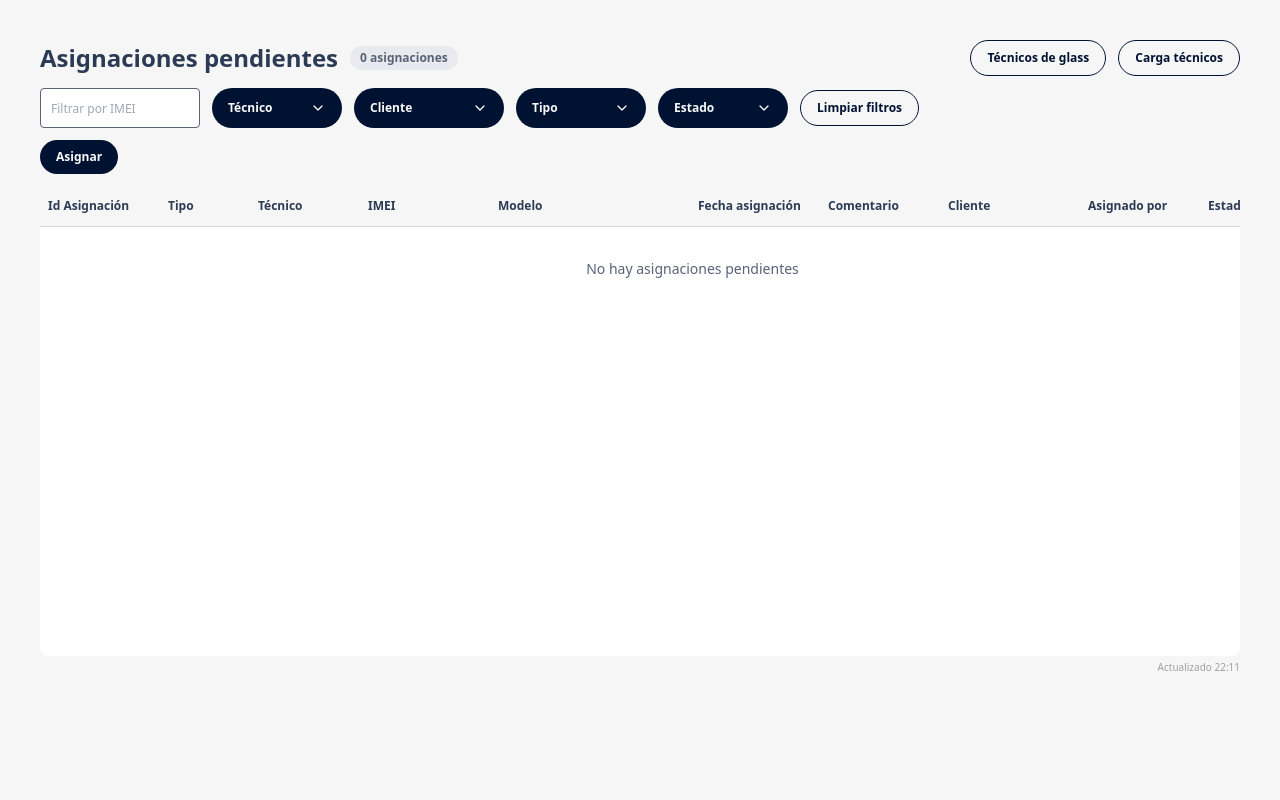
it: TecnicosGlassDialog dentro de la vista › el botón de la cabecera abre el diálogo y aceptar lo cierra
Click the button "Técnicos de glass". click: click(1038, 58)
box: x1=970 y1=40 x2=1106 y2=76
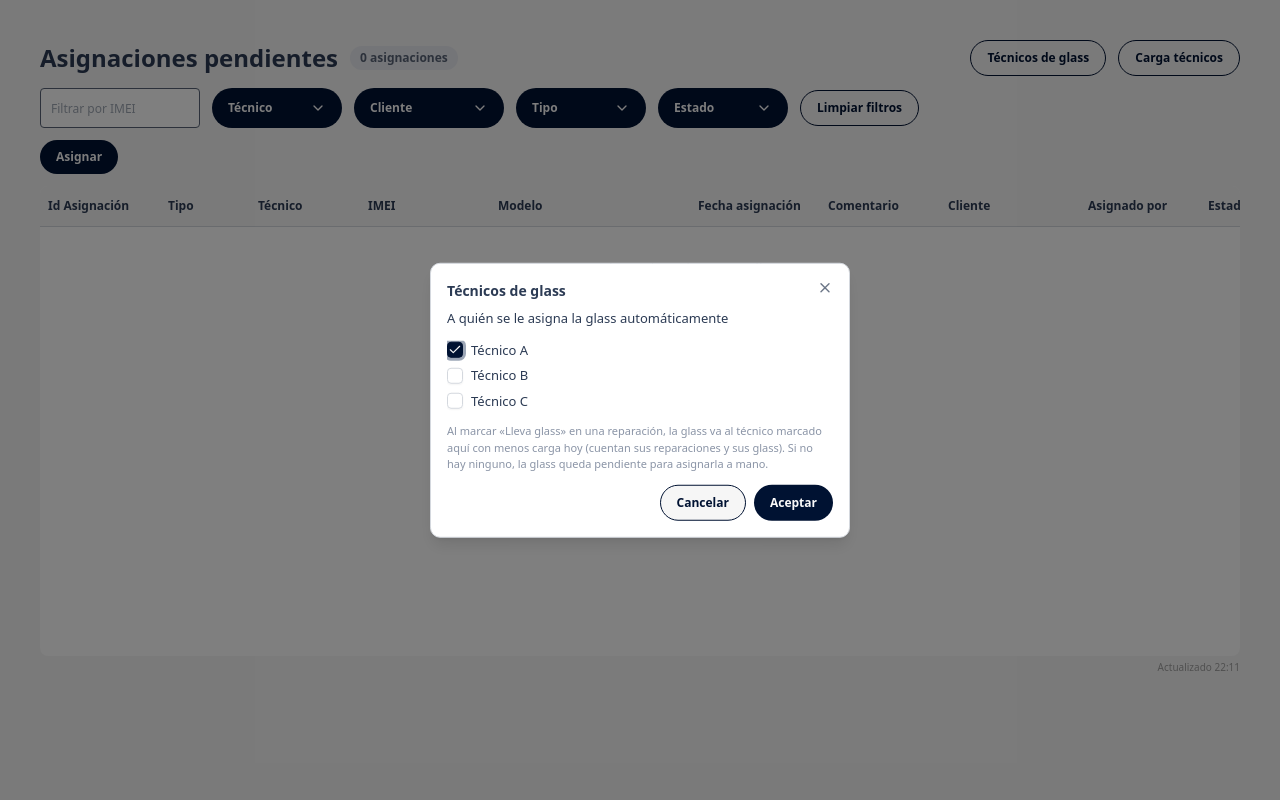
Click the checkbox named "Técnico B". click: click(455, 376)
box: x1=447 y1=368 x2=463 y2=384
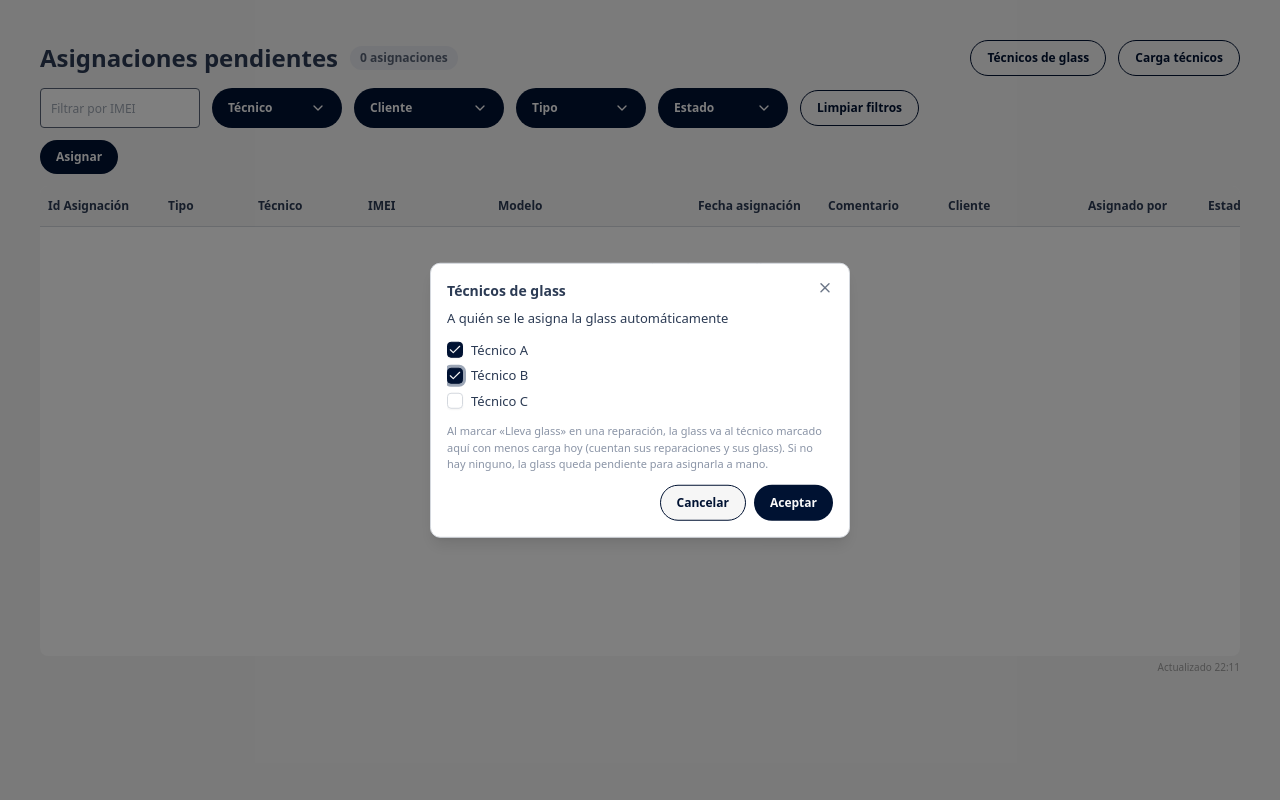
Click the button "Aceptar". click: click(794, 502)
box: x1=754 y1=484 x2=833 y2=520
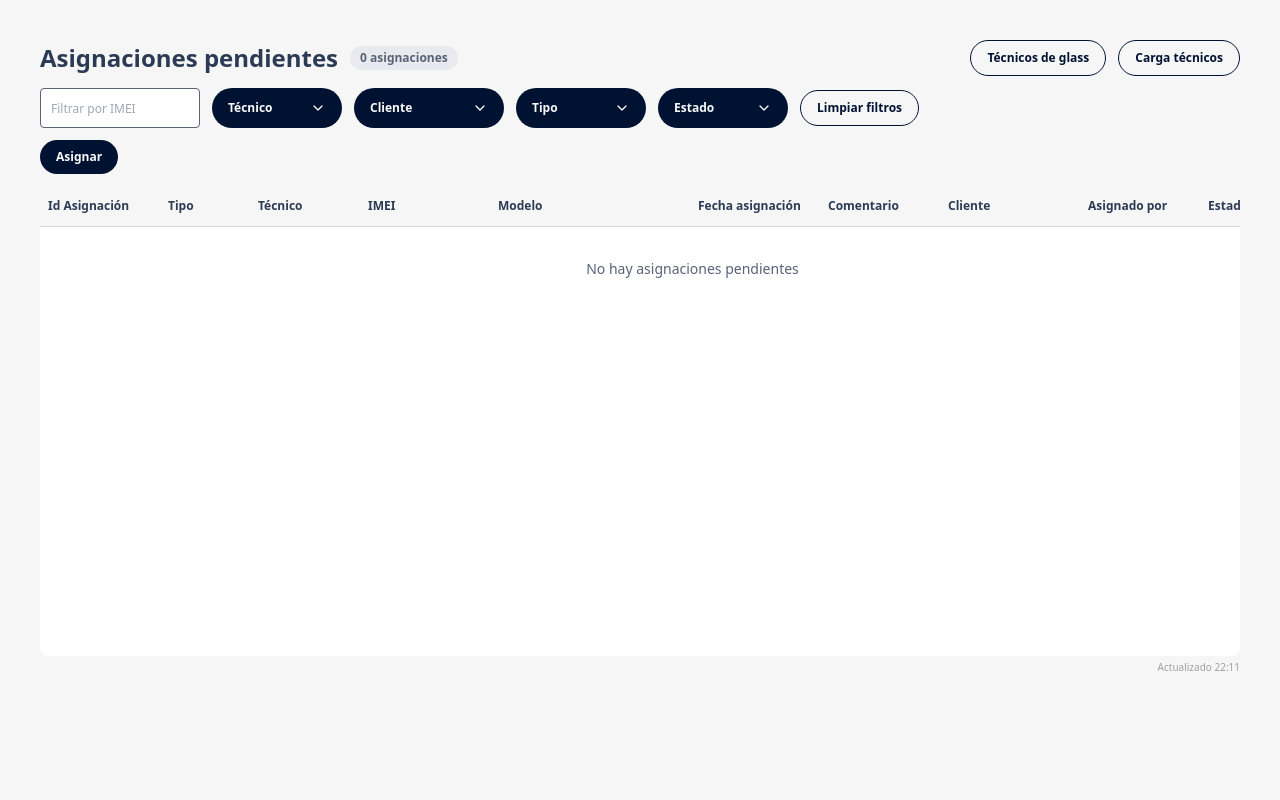
Check: the dialog is gone
